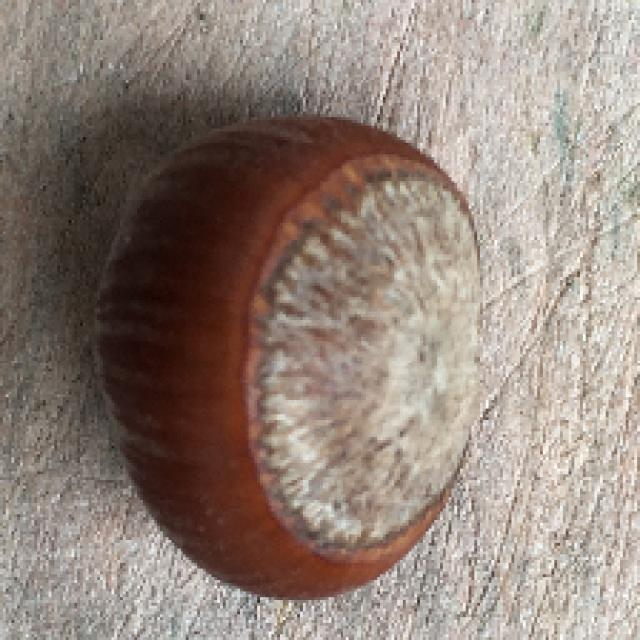qualityHazelnut: (96, 114, 489, 602)
